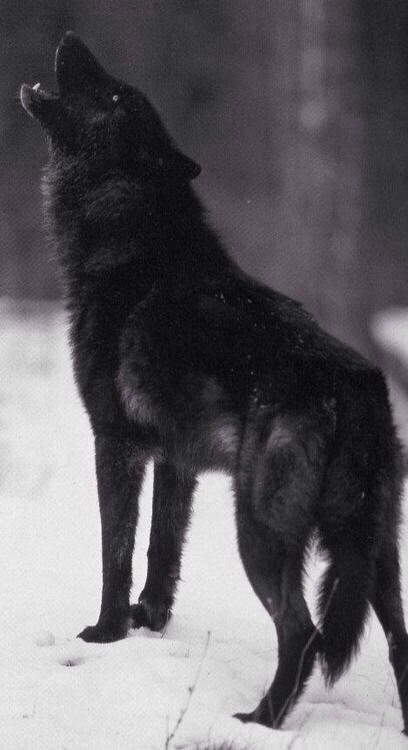Lobo: (16, 25, 400, 672)
